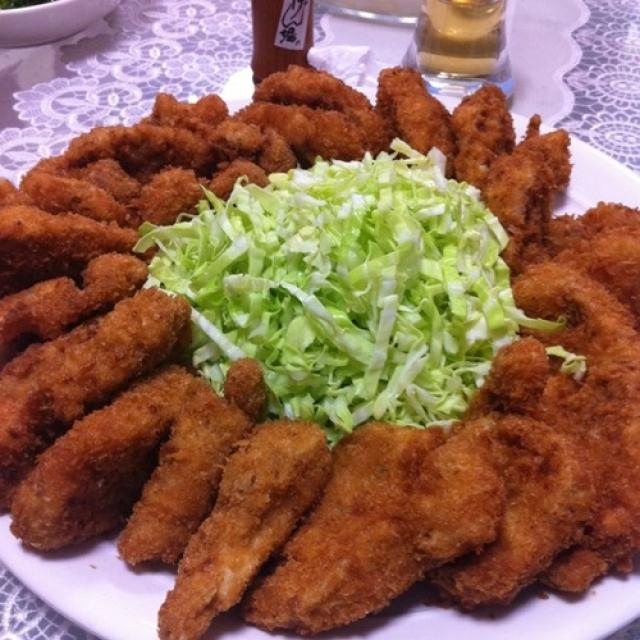牛肉菜式: (9, 58, 631, 616)
